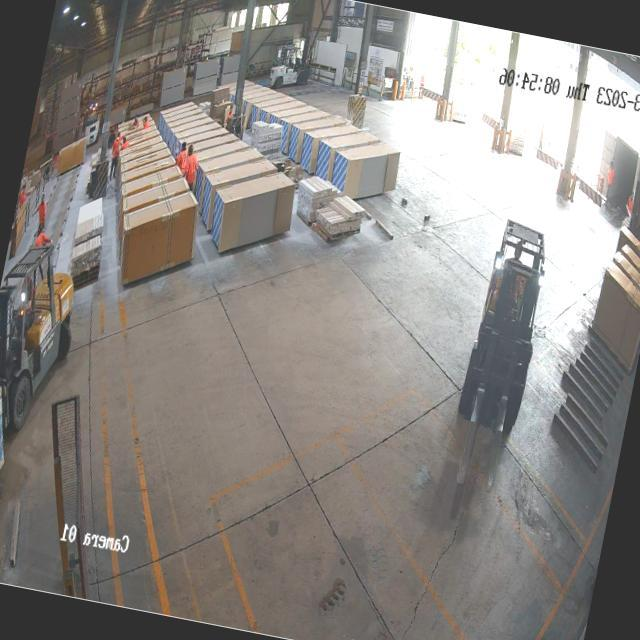forklift: (452, 212, 558, 439), (0, 231, 88, 440)
person: (266, 39, 312, 97), (29, 190, 52, 238), (105, 130, 124, 186), (182, 144, 202, 186), (174, 143, 188, 169), (604, 160, 616, 190), (625, 192, 635, 214)
